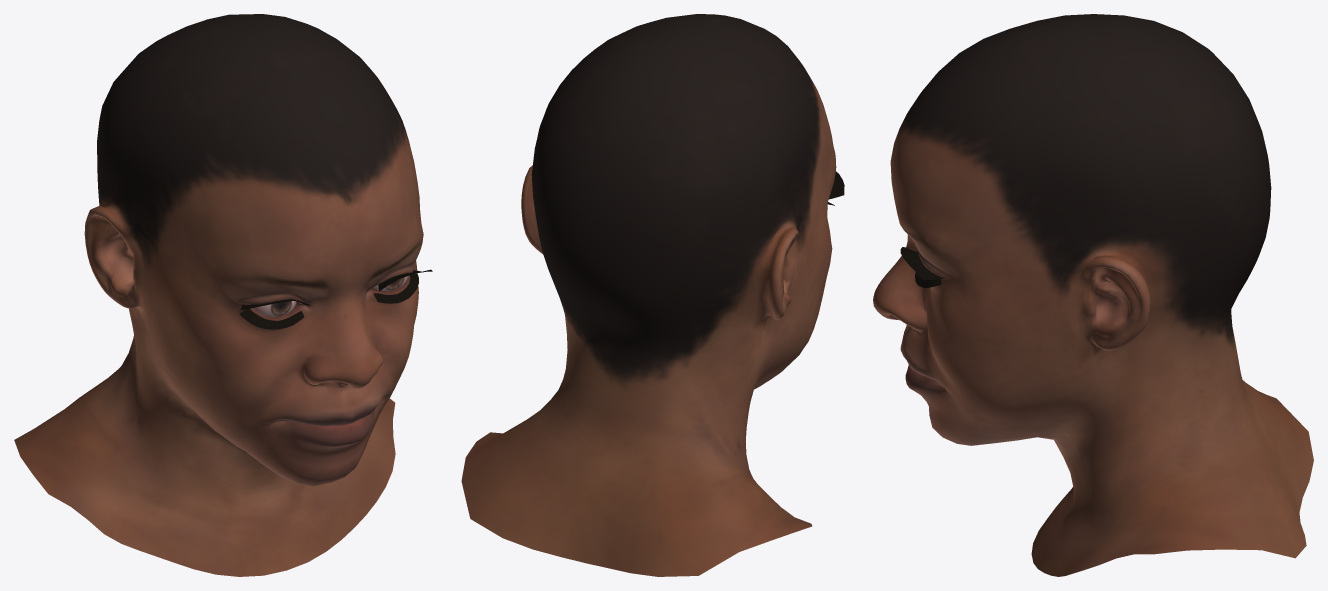
File: black female.obj
3 renders of one model, left to right at view 1: azimuth 30°, elevation 25°; view 2: azimuth 150°, elevation 25°; view 3: azimuth 270°, elevation 25°, orthographic. The views are drawn at different scales.
Visible parts, largest first — view 1: Body, Eyelashes, default; view 2: Body; view 3: Body, Eyelashes.
Boxes of the visible parts, left/top/right/bottom form: Body: left=14, top=14, right=423, bottom=576; Eyelashes: left=239, top=269, right=432, bottom=329; default: left=253, top=276, right=408, bottom=316; Body: left=461, top=14, right=836, bottom=576; Body: left=873, top=14, right=1313, bottom=576; Eyelashes: left=900, top=247, right=944, bottom=288.
Size of the model in its own units: 20.39 by 29.47 by 22.41.
Materials: 1 (1 with a texture image).
